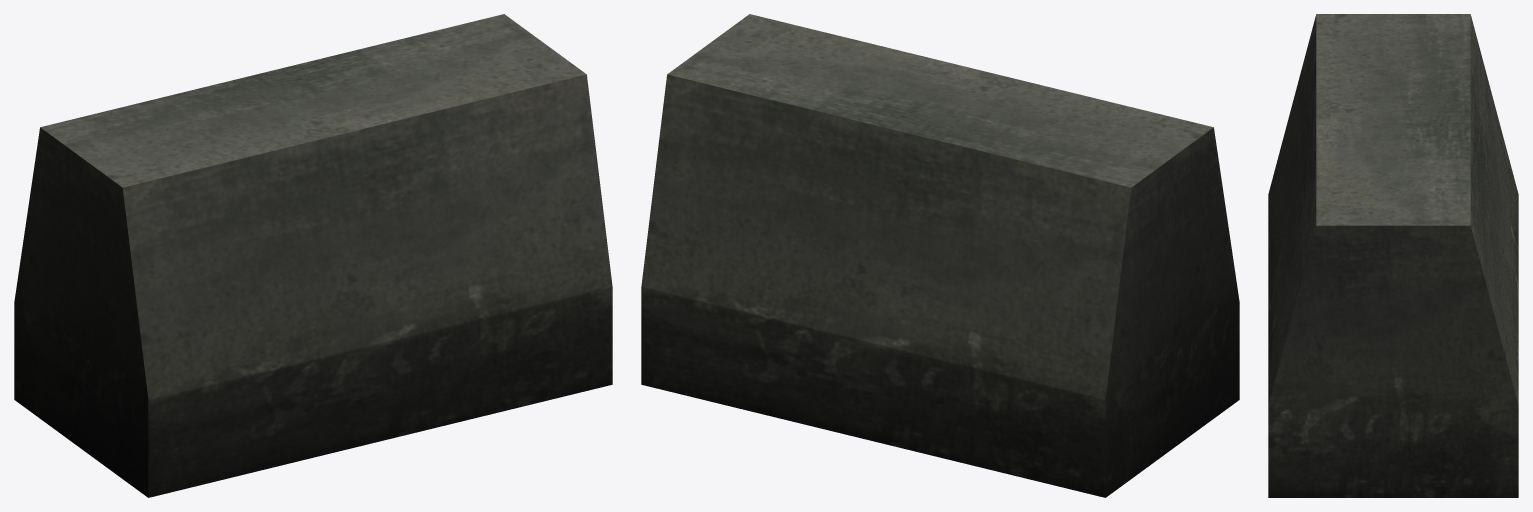
File: wall_straight.obj
3 renders of one model, left to right at view 1: azimuth 30°, elevation 25°; view 2: azimuth 150°, elevation 25°; view 3: azimuth 270°, elevation 25°, orthographic. The views are drawn at different scales.
Visible parts, largest first — view 1: Box02; view 2: Box02; view 3: Box02.
Part boxes in pixels (<box>): Box02: <box>14,14,612,497</box>; Box02: <box>641,14,1239,497</box>; Box02: <box>1268,14,1518,497</box>.
Size of the model in its own units: 0.9843 by 0.5906 by 0.4921.
Materials: 1 (1 with a texture image).
